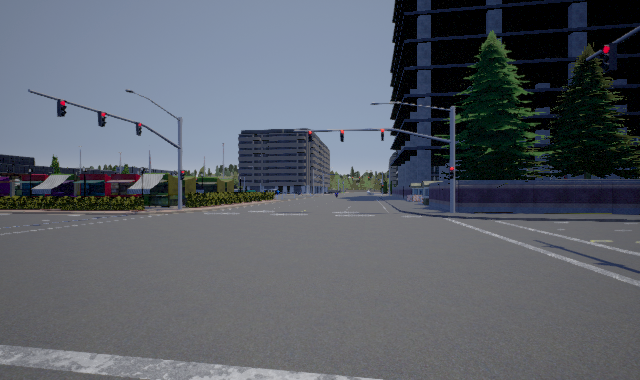traffic_light: (600, 43, 617, 73), (57, 99, 67, 117), (98, 111, 107, 127), (136, 122, 142, 136), (449, 167, 454, 179), (180, 170, 185, 180), (340, 130, 344, 142), (308, 131, 312, 142), (381, 129, 384, 141)
